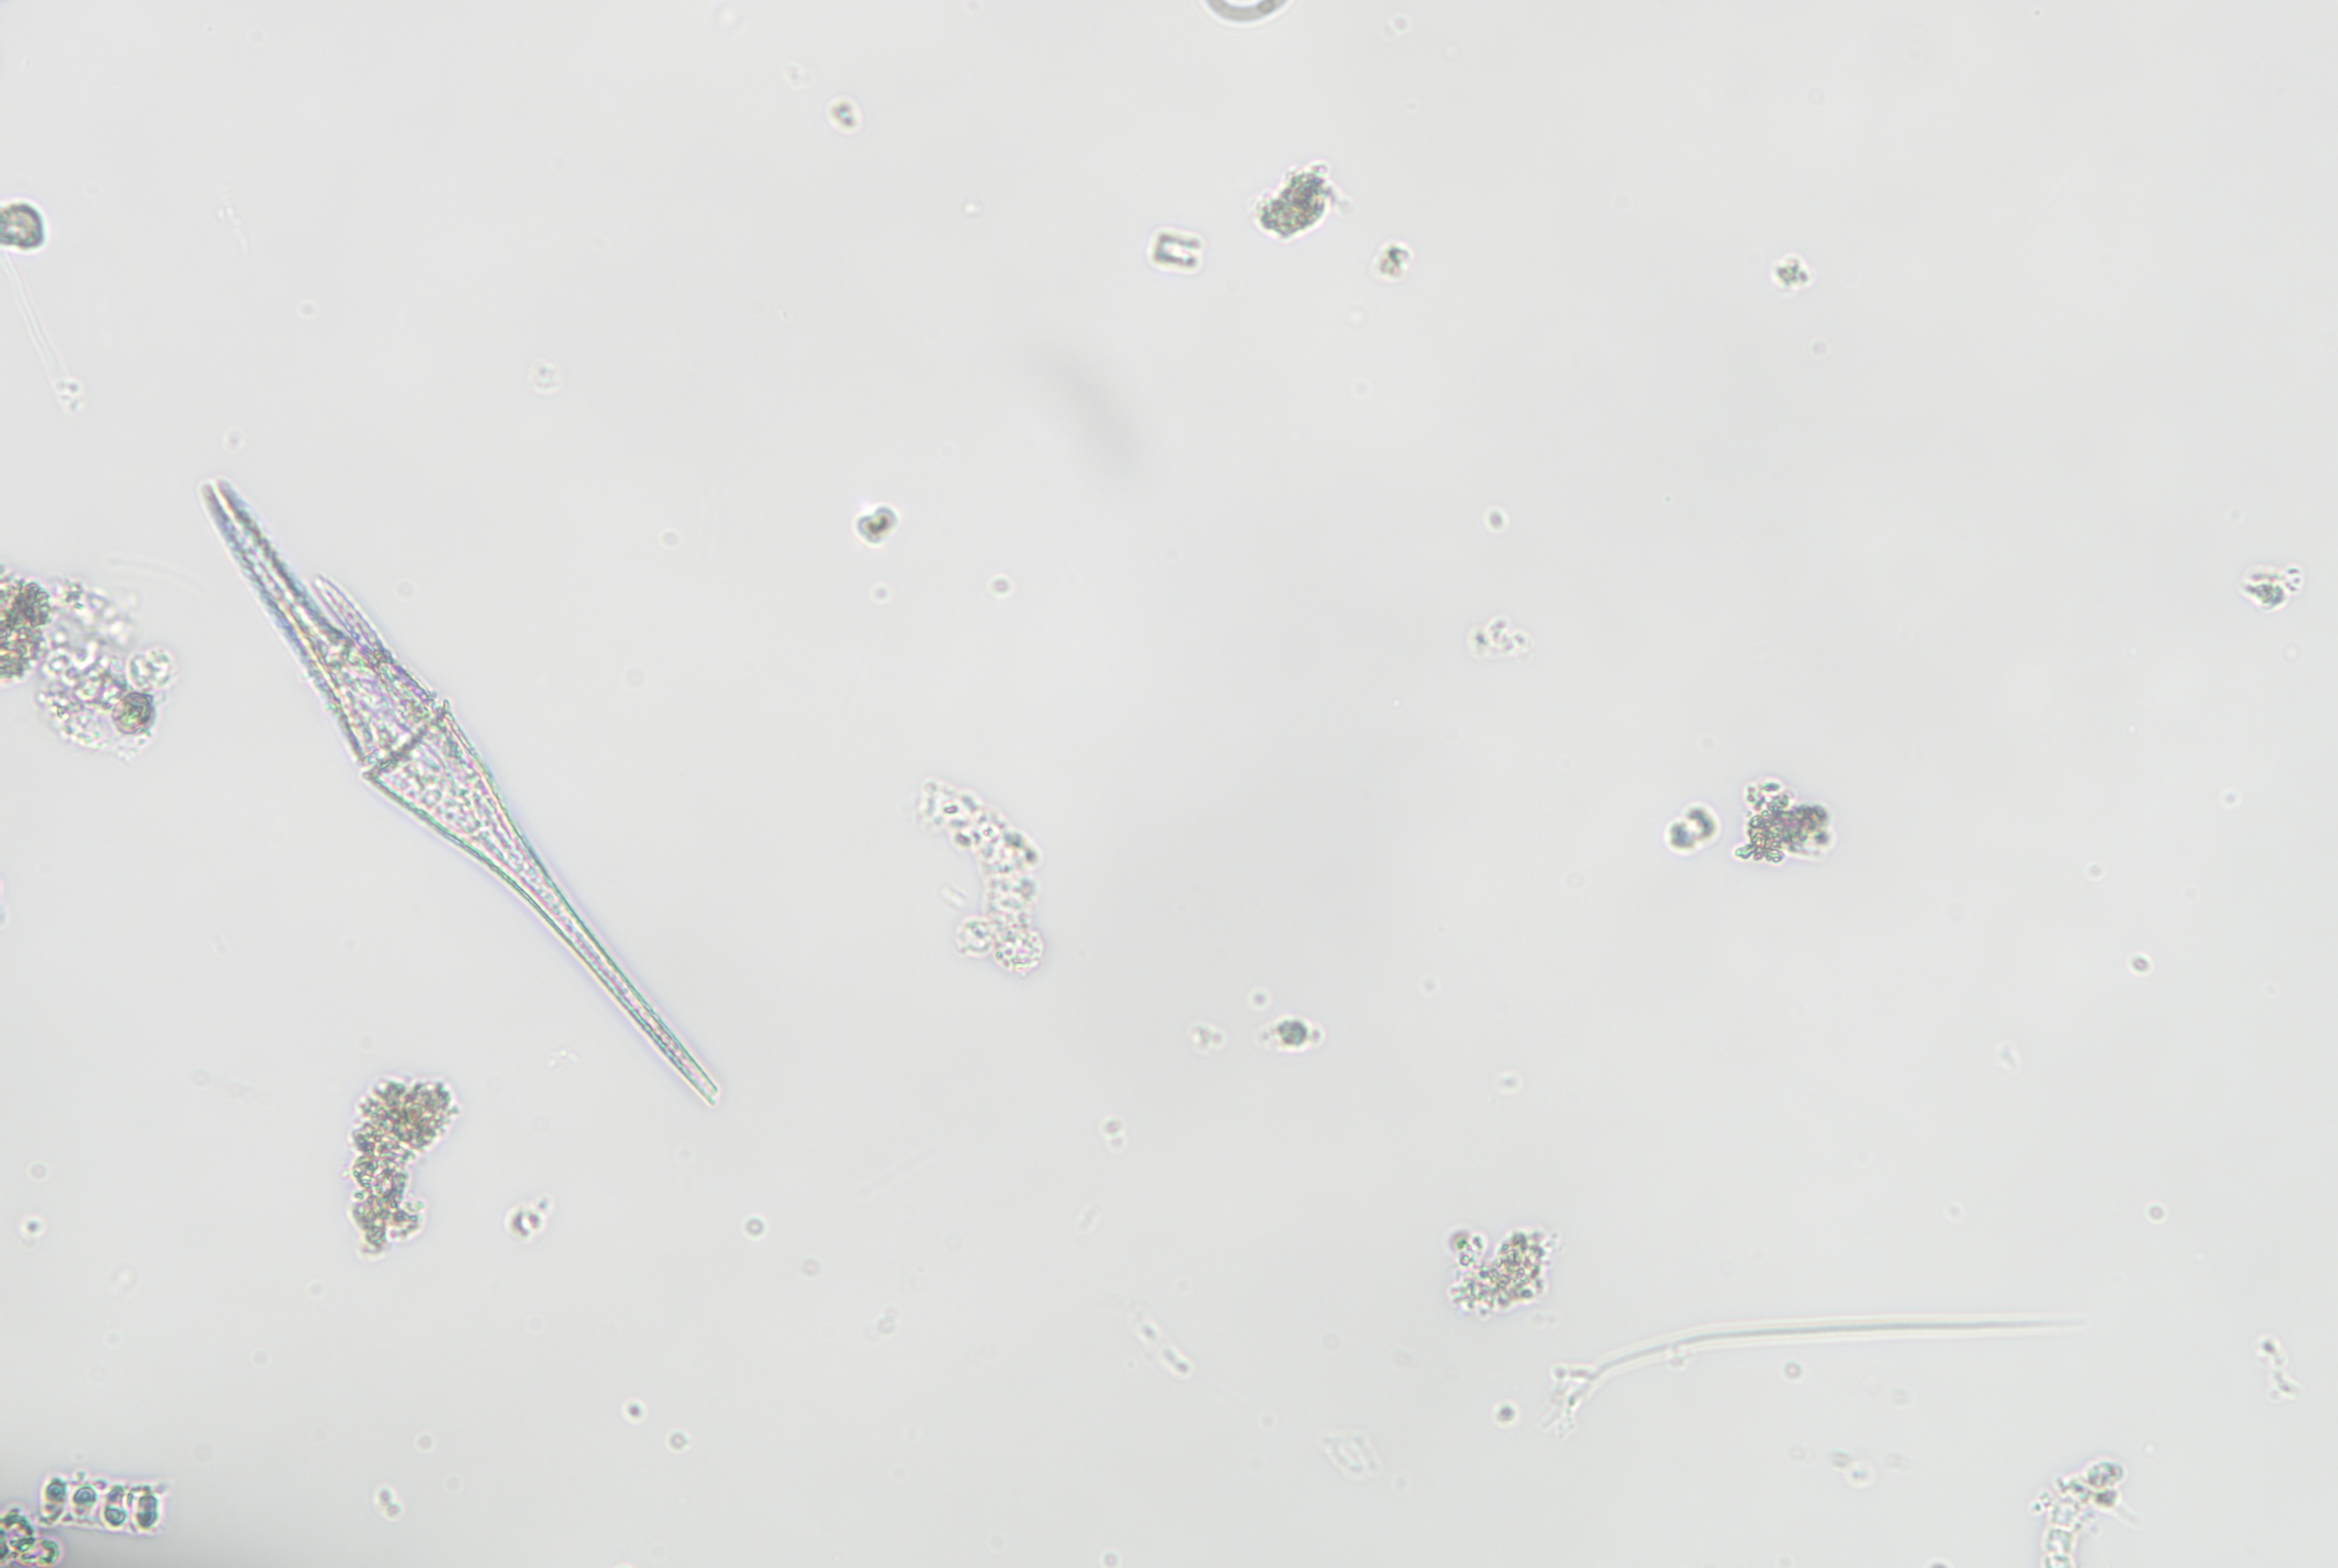ceratium furca: (192, 476, 721, 1104)
